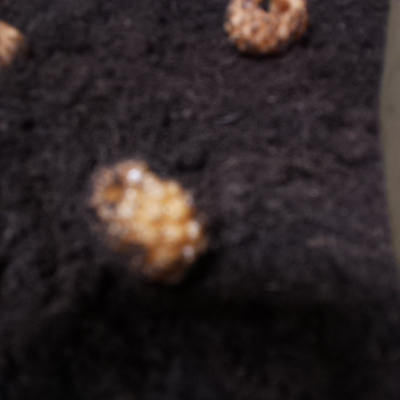eggs: (72, 152, 222, 295), (219, 1, 316, 64), (1, 18, 32, 69)
